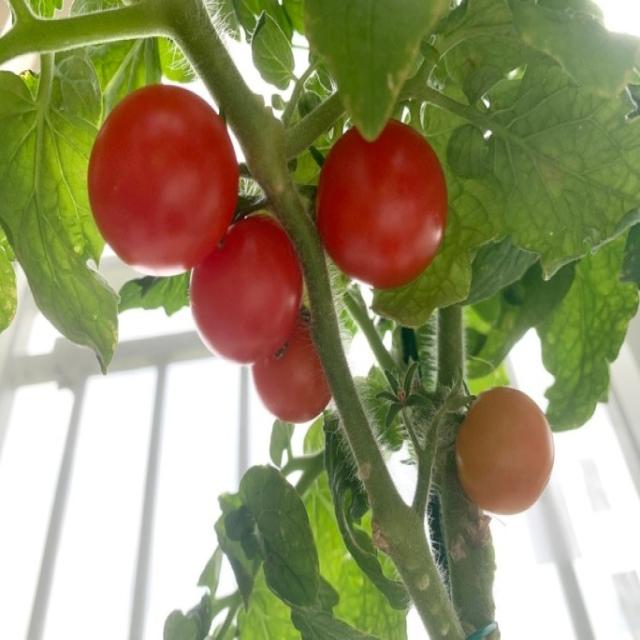level 4: (437, 374, 558, 524)
level 5: (183, 209, 313, 365), (241, 303, 348, 435)
level 6: (72, 70, 245, 273), (302, 85, 464, 287)
